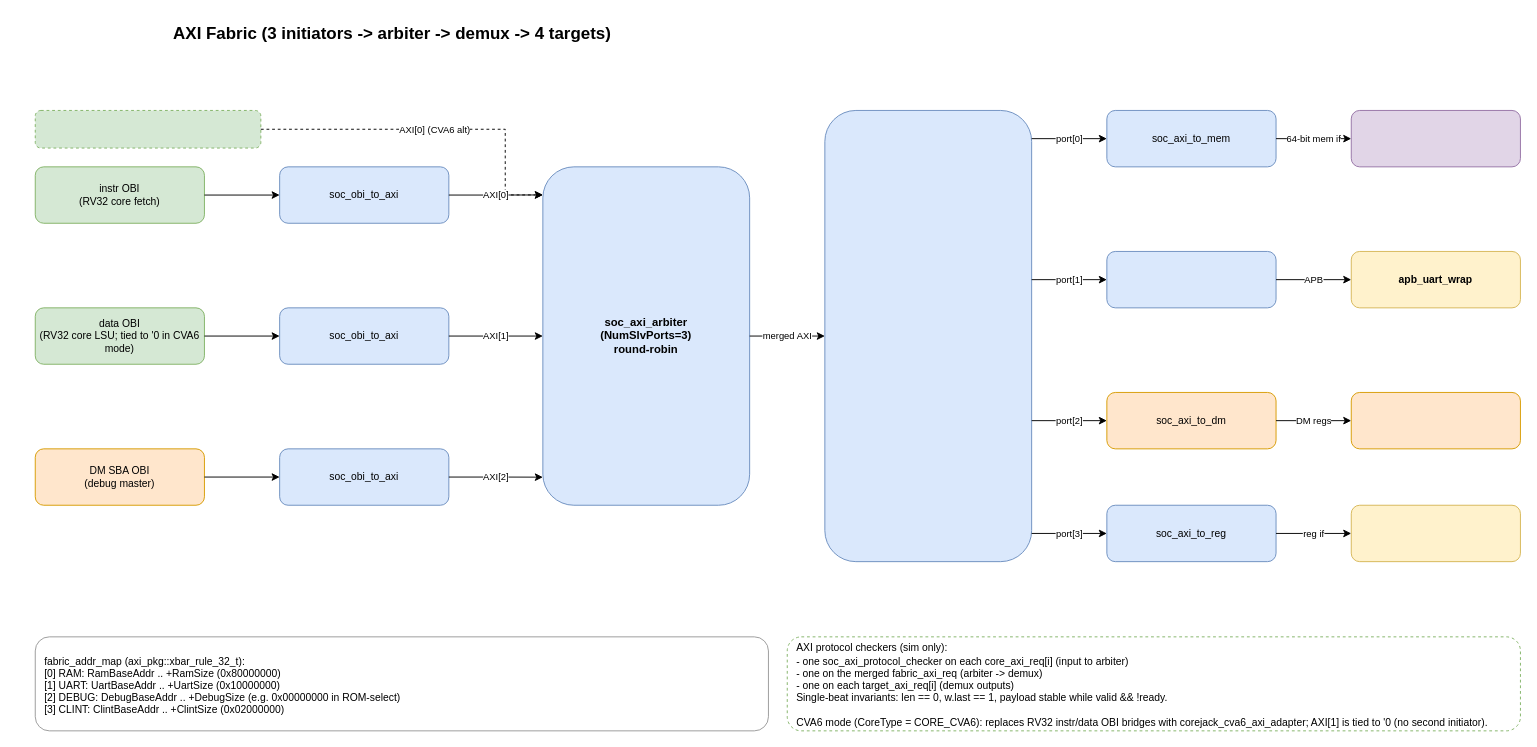
Image size: 1537x747. Some labels were removed from this diagram. The centre of each missing label's shape, as x and y in pixels:
"clint mtime/mtimecmp/IPI" goes at (x=1435, y=533).
"CVA6 native AXI (CoreType = CORE_CVA6, alt AXI[0])" goes at (x=147, y=129).
"dm_top DM register file" goes at (x=1435, y=420).
"soc_axi_demux (NumMstPorts=4) addr_map_i -> port" goes at (x=928, y=336).
"soc_axi_to_apb" goes at (x=1191, y=279).
"soc_mem_ss banked SRAM" goes at (x=1435, y=138).
